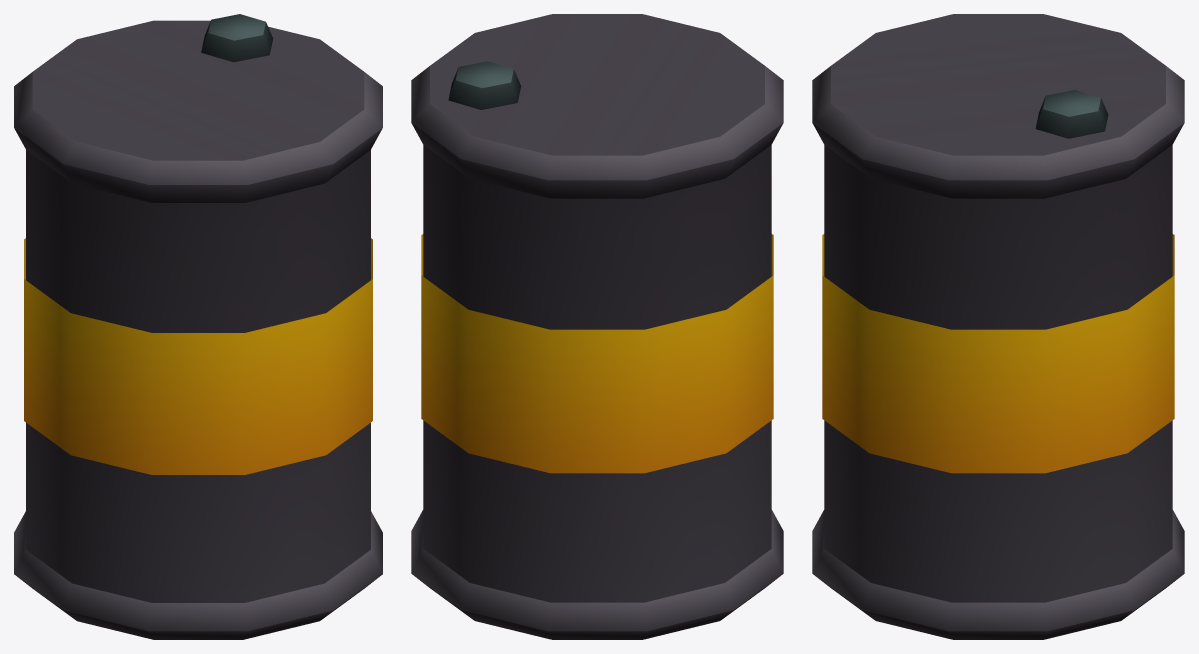
File: Barrel_1C.fbx
3 renders of one model, left to right at view 1: azimuth 30°, elevation 25°; view 2: azimuth 150°, elevation 25°; view 3: azimuth 270°, elevation 25°, orthographic.
Visible parts, largest first — view 1: Barrel_1C; view 2: Barrel_1C; view 3: Barrel_1C.
Part boxes in pixels (x1=…): Barrel_1C: x1=14, y1=14, x2=382, y2=639; Barrel_1C: x1=411, y1=14, x2=783, y2=639; Barrel_1C: x1=812, y1=14, x2=1184, y2=639.
Size of the model in its own units: 0.8369 by 1.25 by 0.8369.
